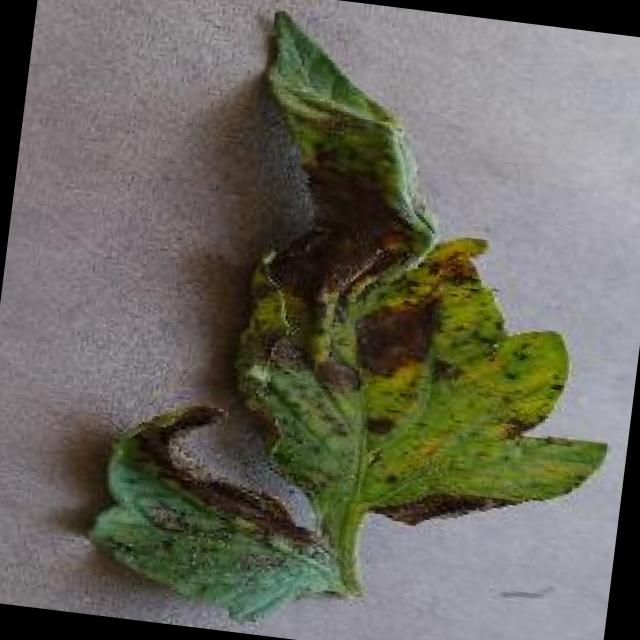Tomato_Early_Blight: (232, 203, 572, 547), (55, 379, 233, 586)
